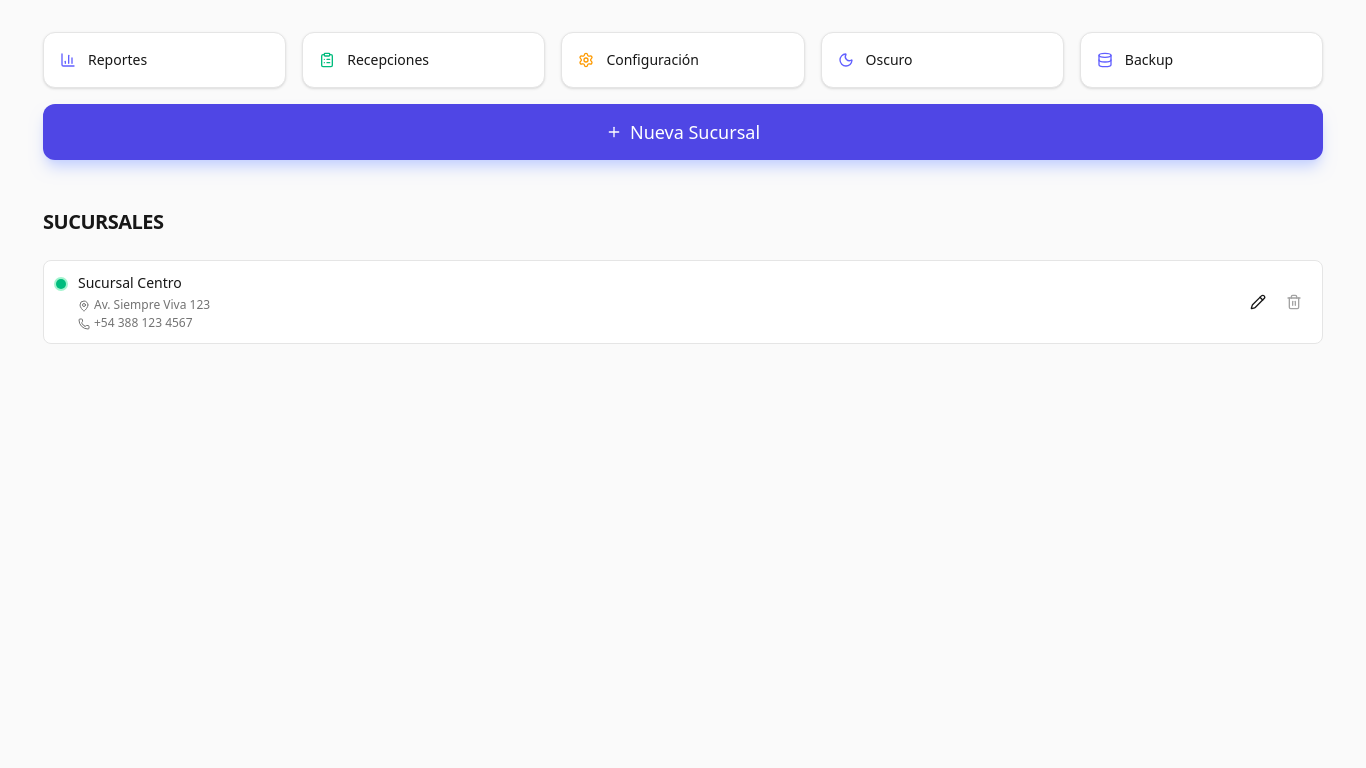
Test case: BranchList › should open delete modal and cancel
Expected: the text "Sucursal Centro" is shown, [78,273,182,292]
Click the button with test id "delete-button" at (1294, 302), box [1278,286,1310,318]
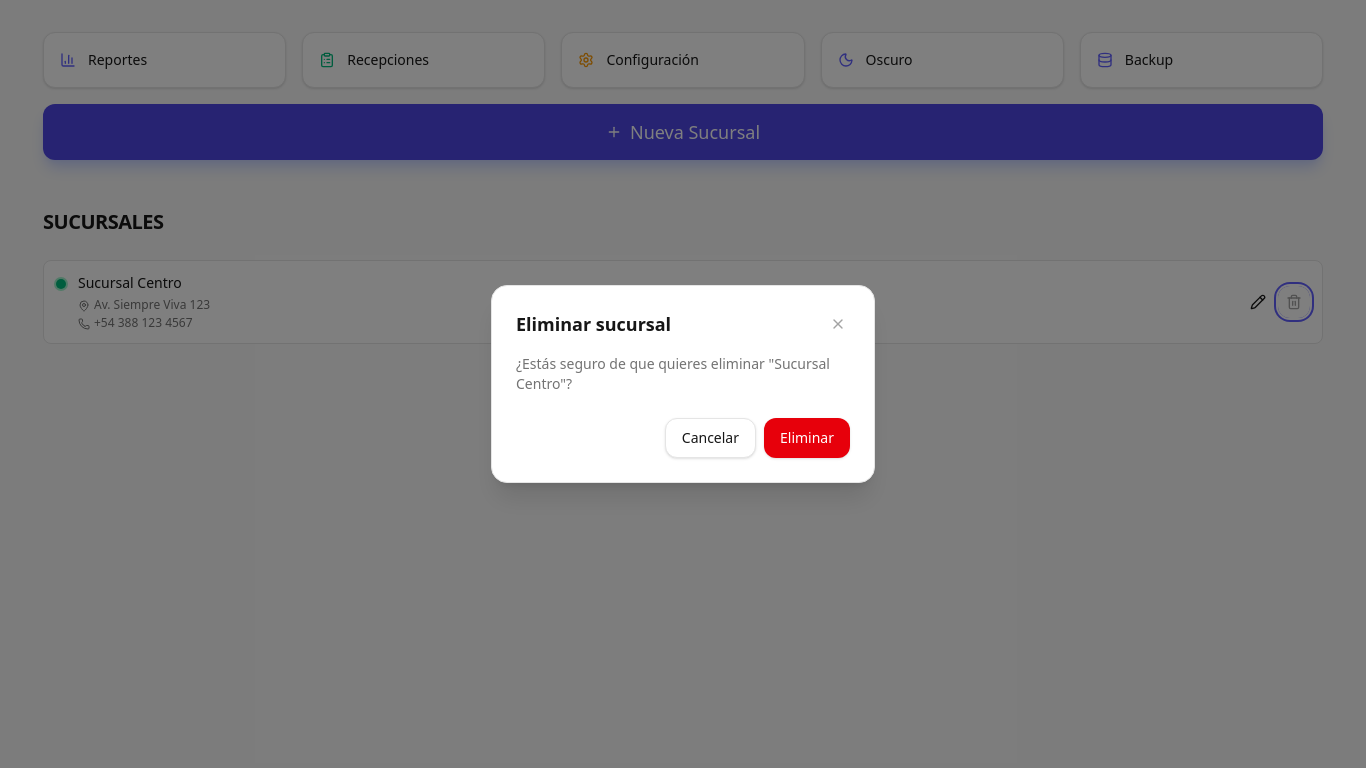
Result: the text "¿Estás seguro de que quieres eliminar \"Sucursal Centro\"?" is shown at [516,354,850,394]
Click the button "Cancelar" at (710, 438), box [665,418,756,458]
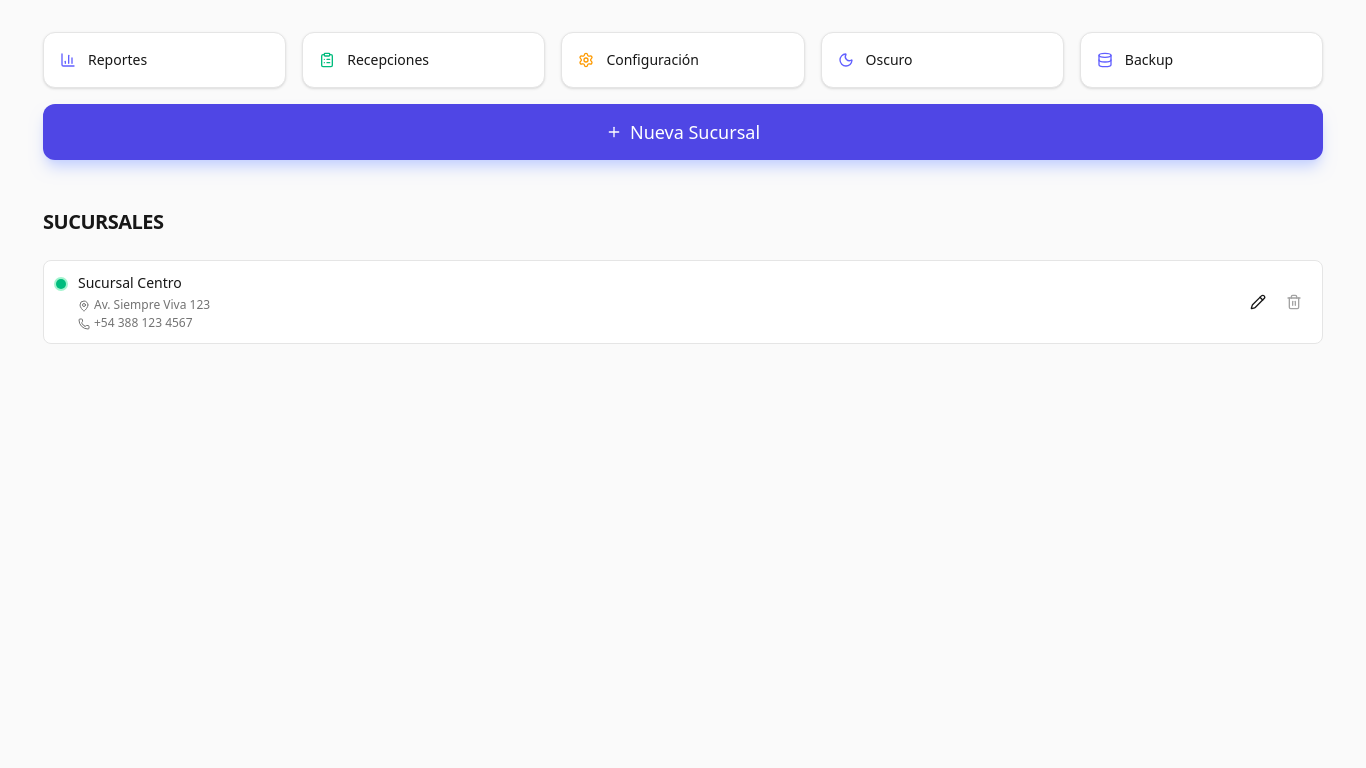
Result: the text "¿Estás seguro de que quieres eliminar" is gone
